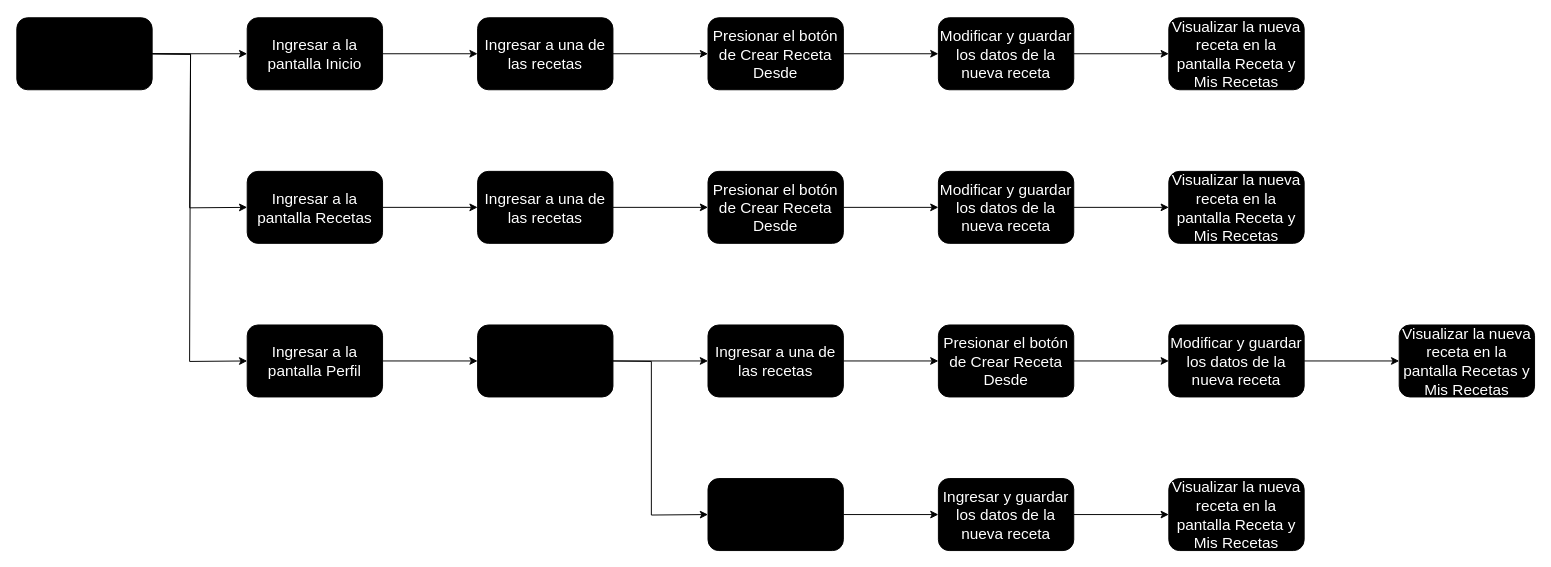
Image size: 1551x567. Some labels were removed from this diagram. Each missing label, with the centre of its shape:
"Ingresar a la aplicación" goes at (84,53).
"Ingresar a la pantalla Mis Recetas" goes at (545,360).
"Presionar el botón de Crear Receta" goes at (775,514).
